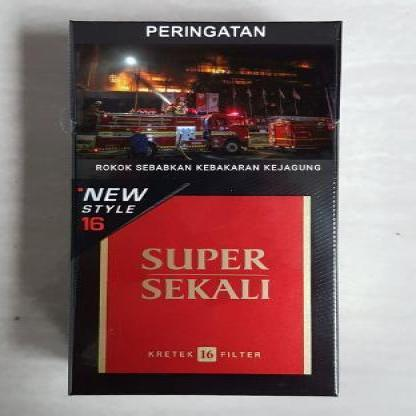objects: (70, 21, 342, 396)
